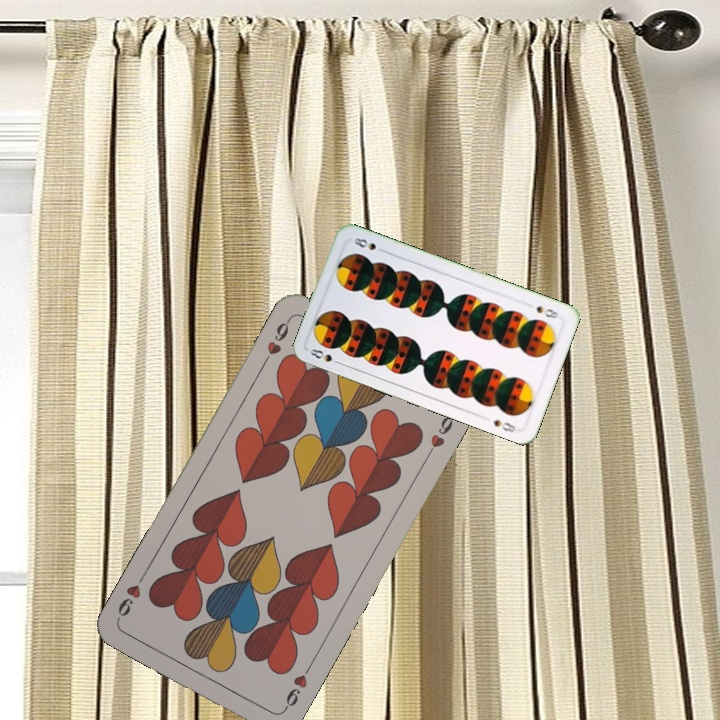H9: (258, 315, 293, 369), (279, 661, 314, 715)
S8: (306, 344, 345, 368), (532, 302, 561, 321)
